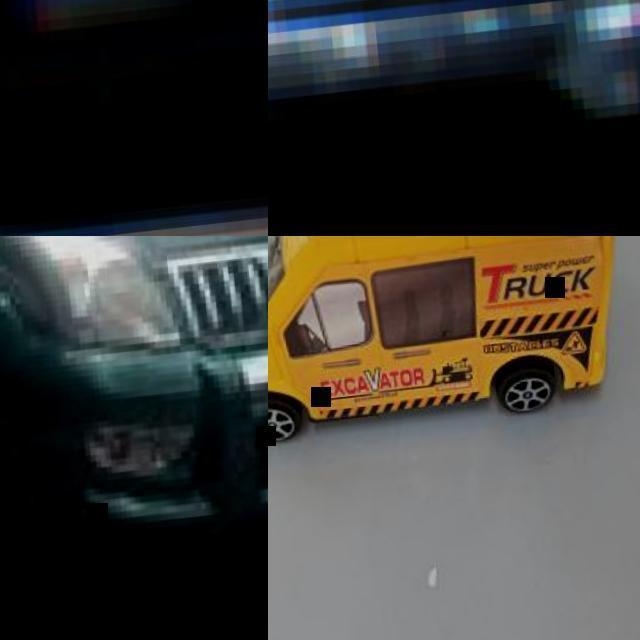car: (0, 230, 268, 639)
